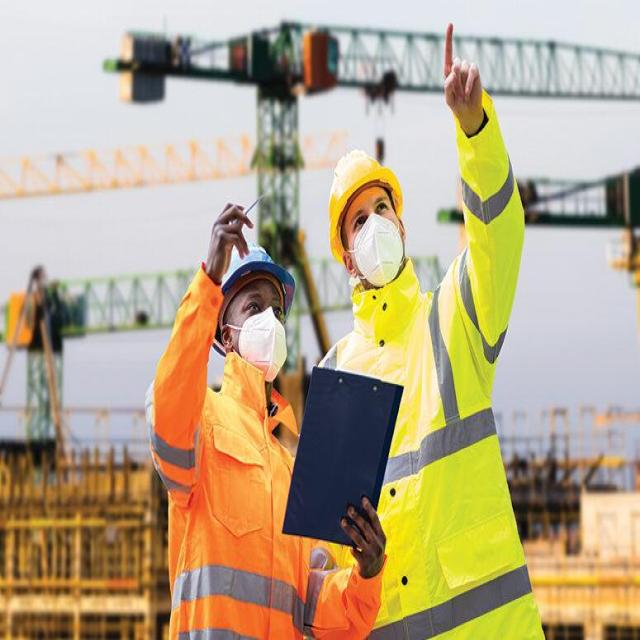helmet: (327, 141, 402, 254), (216, 233, 295, 305)
no-goggles: (227, 290, 297, 329), (338, 196, 405, 234)
vest: (362, 294, 519, 640), (150, 388, 286, 640)
